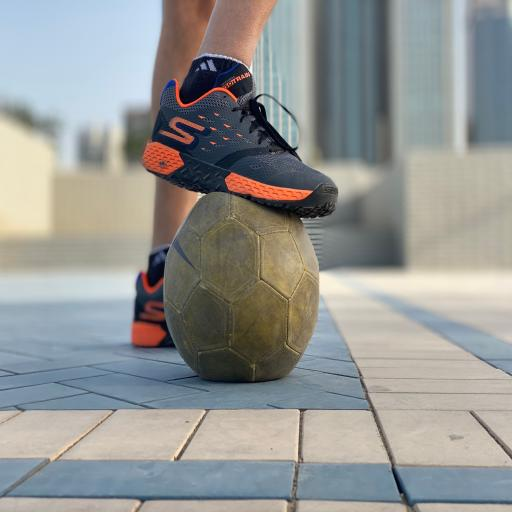shoe: (143, 81, 337, 217), (132, 272, 173, 347)
